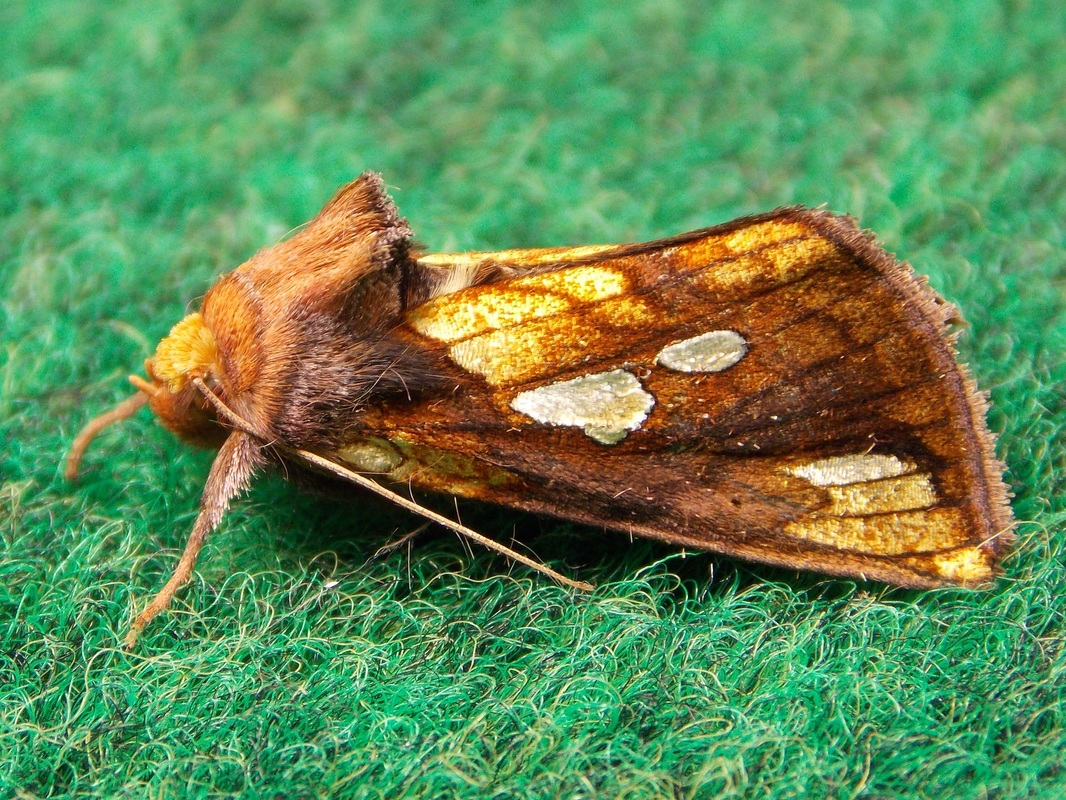Noctuidae: (64, 171, 1019, 643)
